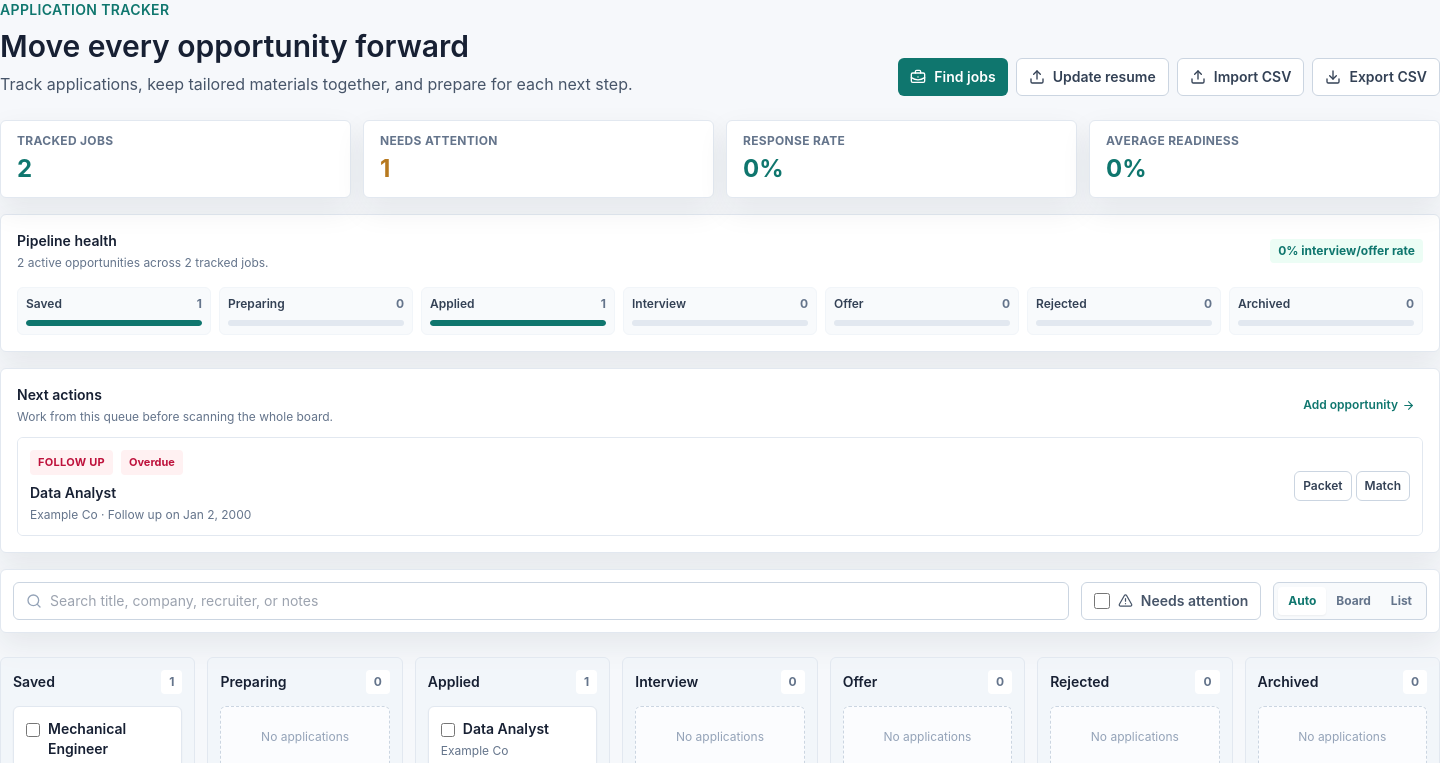
Test: HistoryScreen › searches by recruiter name
In the field named "Search tracked jobs": (553, 600) [50, 582, 1056, 618], type "Taylor Recruiter"
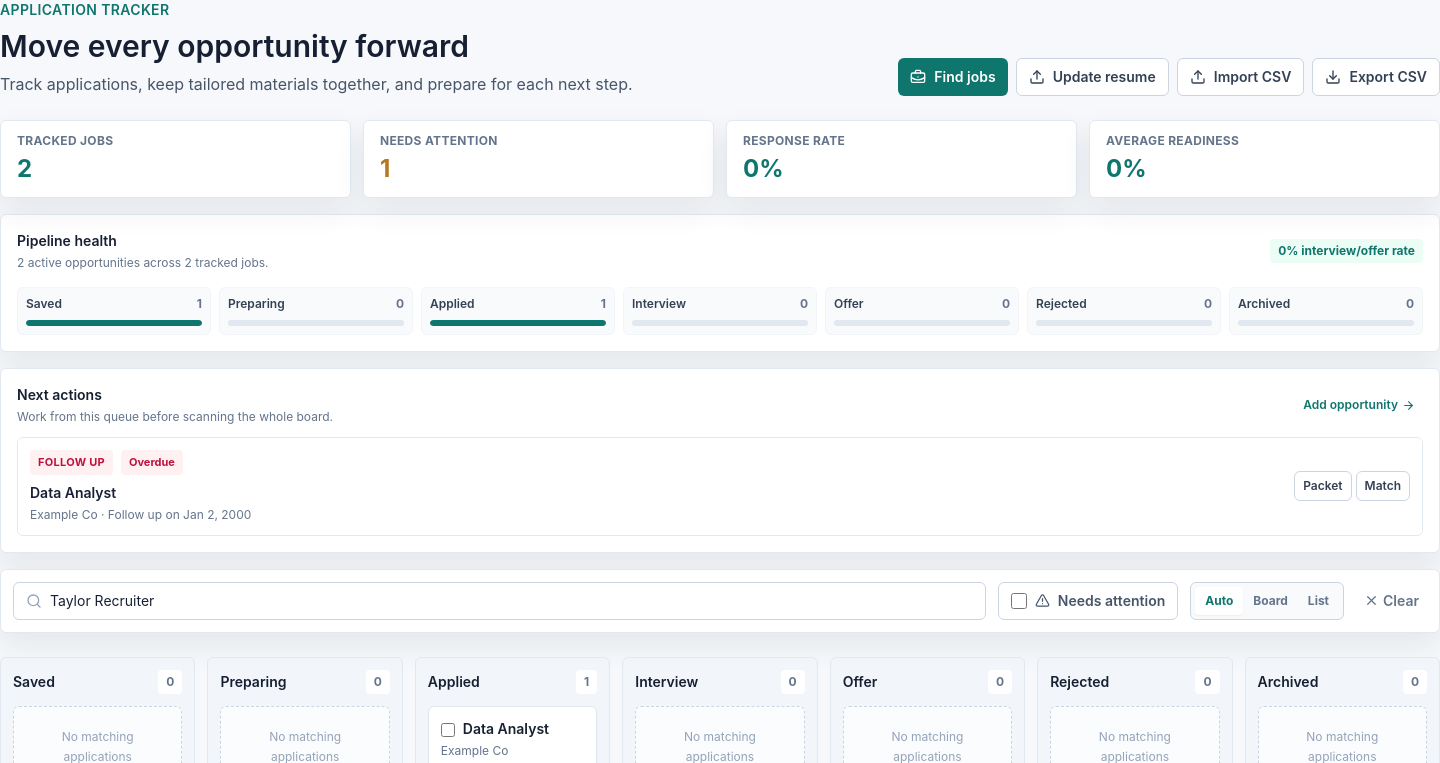
Expected: the text "Data Analyst" below "Next actions" is shown, [30, 484, 116, 500]
Result: the text "Mechanical Engineer" is gone
